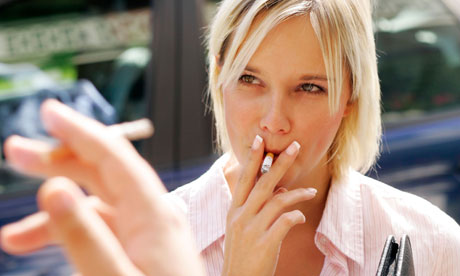cigarette: (254, 145, 280, 178)
